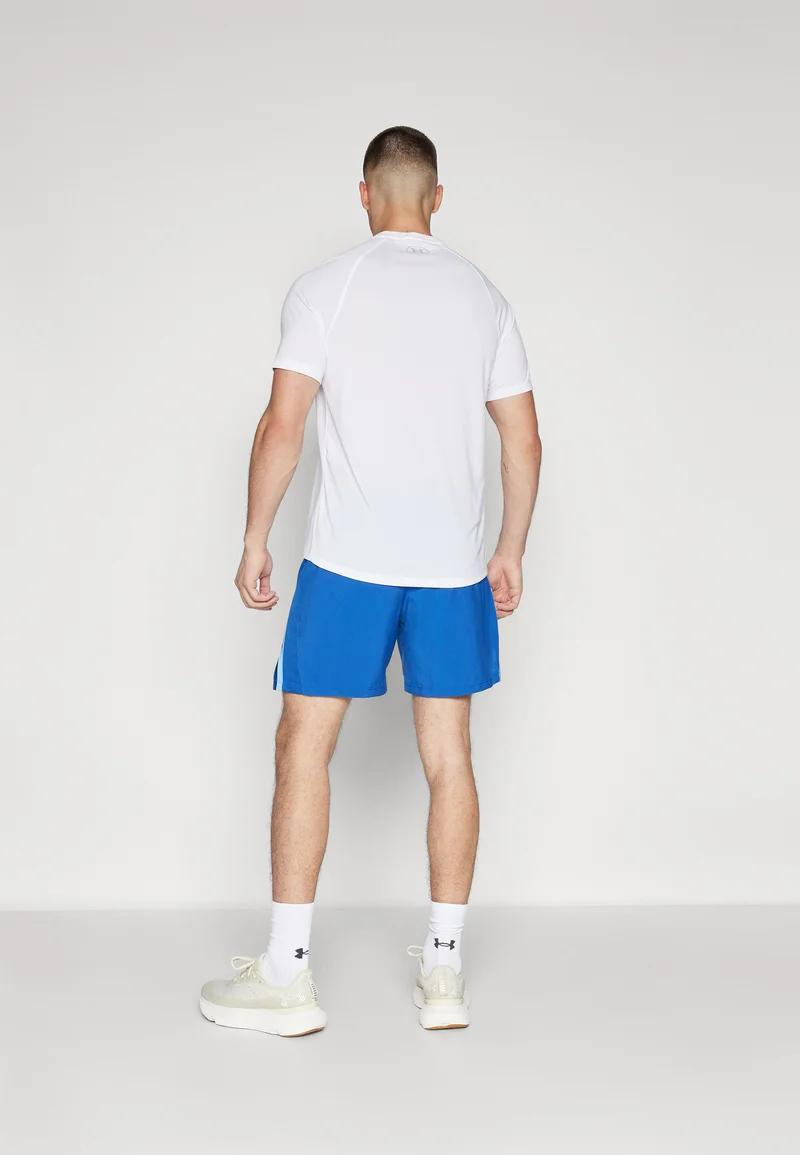Shorts: (266, 557, 508, 702)
short sleeve shirt: (269, 227, 540, 594)
